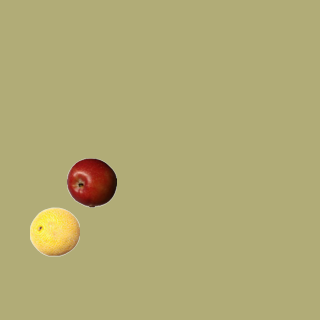Apple Braeburn: (66, 157, 116, 207)
Cantaloupe 1: (29, 206, 79, 256)
